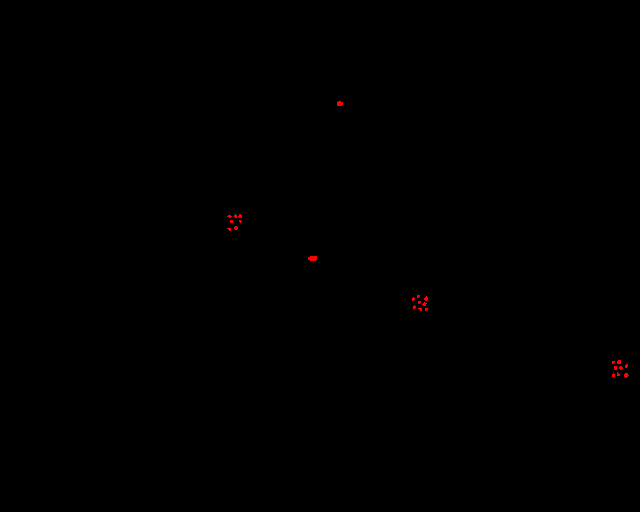Target: (308, 256, 317, 261), (337, 101, 343, 106), (624, 373, 629, 378), (424, 296, 428, 301), (422, 302, 427, 306), (238, 214, 242, 218), (234, 226, 238, 230), (617, 360, 621, 364), (619, 366, 623, 370), (227, 215, 232, 218), (234, 214, 237, 218), (227, 228, 231, 231), (412, 297, 415, 301), (413, 305, 416, 309), (418, 308, 422, 311), (625, 364, 628, 368), (614, 366, 617, 370), (617, 372, 620, 376), (612, 373, 615, 377), (230, 220, 233, 223), (239, 220, 242, 223), (417, 295, 420, 298), (418, 301, 421, 304), (425, 308, 428, 311), (612, 361, 615, 364)
